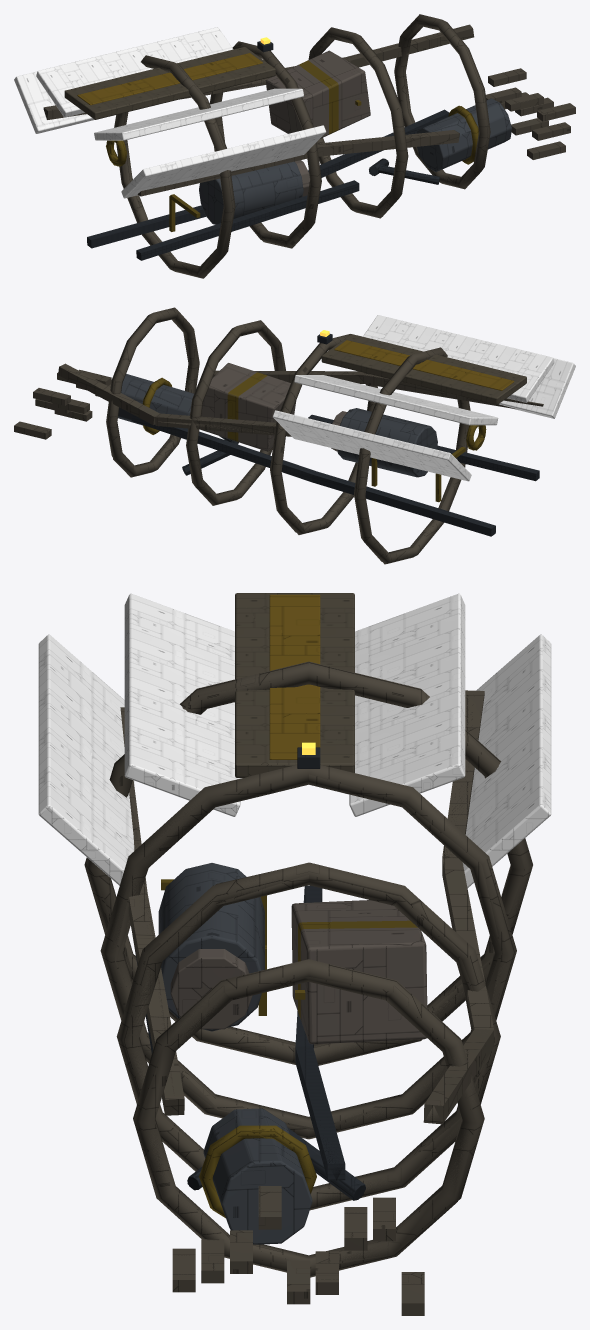
The model's file is place_debris_chunk.glb.
The picture shows the model from 3 angles, top to bottom: view 1: azimuth 30°, elevation 25°; view 2: azimuth 150°, elevation 25°; view 3: azimuth 270°, elevation 25°; orthographic projection. The views are drawn at different scales.
Visible parts, largest first — view 1: LOD0_BrushedMetal, LOD0_deadmetal, LOD1_BrushedMetal, LOD0_Armor, LOD0_Mechanical, LOD0_Hull_patch, LOD0_deadmetal_faded, LOD2_BrushedMetal, LOD1_Mechanical, LOD0_Livery, LOD0_Warning, LOD1_Warning; view 2: LOD0_BrushedMetal, LOD0_deadmetal, LOD1_BrushedMetal, LOD0_Mechanical, LOD0_Armor, LOD0_deadmetal_faded, LOD0_Hull_patch, LOD2_BrushedMetal, LOD1_Mechanical, LOD0_Livery, LOD0_Warning, LOD1_Warning; view 3: LOD0_BrushedMetal, LOD0_deadmetal, LOD1_BrushedMetal, LOD0_Hull_patch, LOD2_BrushedMetal, LOD0_Armor, LOD0_deadmetal_faded, LOD0_Livery, LOD0_Mechanical, LOD0_Warning, LOD1_Mechanical.
Part boxes in pixels (x1,y1,x2,y2): LOD0_BrushedMetal: (43, 14, 575, 278); LOD0_deadmetal: (14, 27, 325, 198); LOD1_BrushedMetal: (44, 14, 575, 275); LOD0_Armor: (199, 98, 511, 224); LOD0_Mechanical: (87, 41, 448, 260); LOD0_Hull_patch: (266, 51, 370, 196); LOD0_deadmetal_faded: (64, 47, 275, 119); LOD2_BrushedMetal: (117, 20, 489, 278); LOD1_Mechanical: (87, 110, 447, 260); LOD0_Livery: (77, 53, 262, 105); LOD0_Warning: (106, 60, 478, 231); LOD1_Warning: (107, 100, 478, 231); LOD0_BrushedMetal: (14, 307, 543, 564); LOD0_deadmetal: (273, 315, 575, 481); LOD1_BrushedMetal: (14, 308, 542, 563); LOD0_Mechanical: (131, 334, 539, 536); LOD0_Armor: (118, 373, 437, 477); LOD0_deadmetal_faded: (321, 334, 526, 404); LOD0_Hull_patch: (201, 363, 346, 451); LOD2_BrushedMetal: (106, 309, 468, 561); LOD1_Mechanical: (131, 415, 539, 535); LOD0_Livery: (334, 340, 514, 390); LOD0_Warning: (142, 372, 486, 502); LOD1_Warning: (143, 378, 485, 501); LOD0_BrushedMetal: (84, 661, 532, 1315); LOD0_deadmetal: (38, 594, 551, 888); LOD1_BrushedMetal: (85, 662, 531, 1315); LOD0_Hull_patch: (170, 900, 427, 1043); LOD2_BrushedMetal: (93, 661, 532, 1268); LOD0_Armor: (158, 863, 312, 1244); LOD0_deadmetal_faded: (235, 593, 354, 777); LOD0_Livery: (269, 594, 320, 759); LOD0_Mechanical: (133, 747, 365, 1200); LOD0_Warning: (161, 879, 417, 1215); LOD1_Mechanical: (191, 753, 360, 1191).
Size of what is drawn, in the model's own units: 23.3 by 9.76 by 11.1.
Materials: 9 (8 with a texture image).
